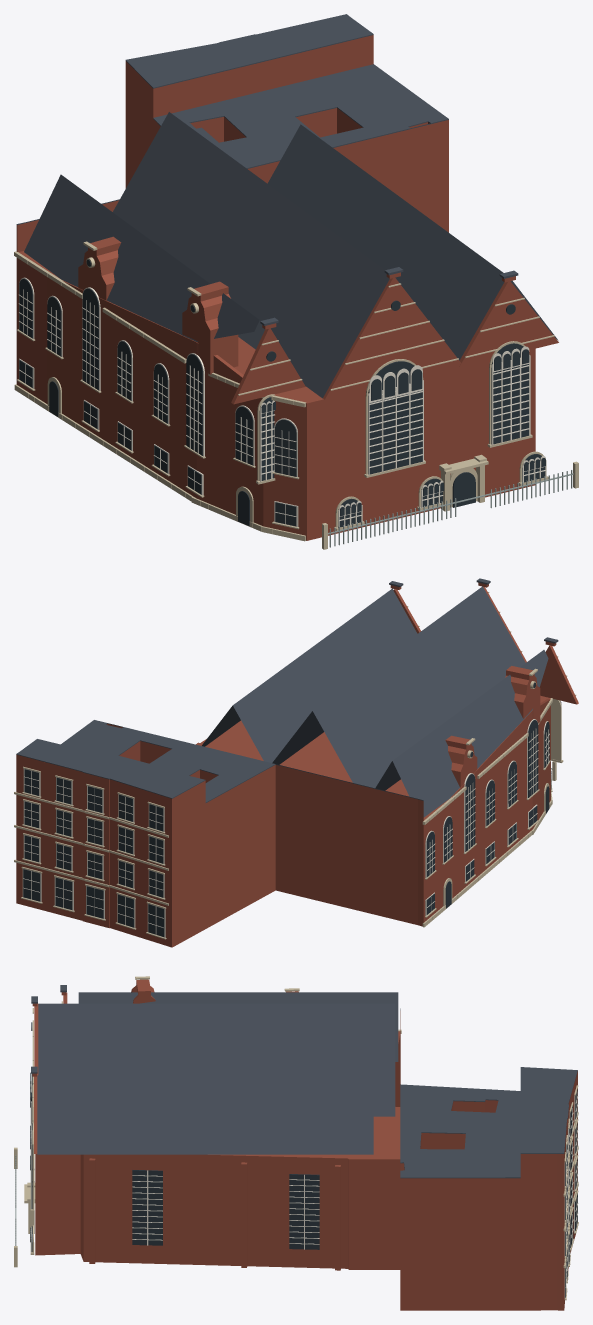
The model's file is oude-lutherse-kerk.glb.
The picture shows the model from 3 angles, top to bottom: view 1: azimuth 30°, elevation 25°; view 2: azimuth 150°, elevation 25°; view 3: azimuth 270°, elevation 25°; orthographic projection. The views are drawn at different scales.
Visible parts, largest first — view 1: oude-lutherse-kerk; view 2: oude-lutherse-kerk; view 3: oude-lutherse-kerk.
Part boxes in pixels (bbox=[...]): oude-lutherse-kerk: bbox=[14, 14, 578, 549]; oude-lutherse-kerk: bbox=[14, 578, 578, 947]; oude-lutherse-kerk: bbox=[14, 976, 578, 1310].
Bounding box in the file's own units: 41.02 × 22.46 × 57.28.
